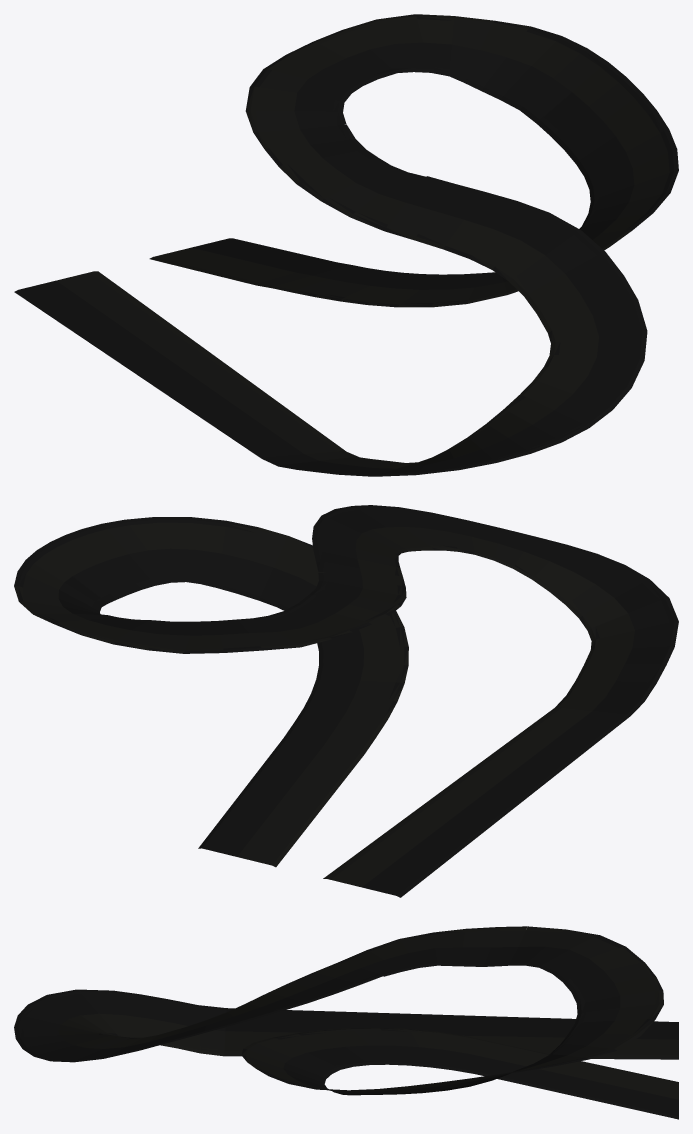
File: vai volta e sobe.gltf
3 views of the same model, one above another, from view 1: azimuth 30°, elevation 25°; view 2: azimuth 150°, elevation 25°; view 3: azimuth 270°, elevation 25° (orthographic). The views are drawn at different scales.
Parts seen in each view (by area): view 1: regular_3.002; view 2: regular_3.002; view 3: regular_3.002.
Boxes of the visible parts, bbox=[...] form: regular_3.002: bbox=[14, 14, 678, 476]; regular_3.002: bbox=[14, 505, 678, 897]; regular_3.002: bbox=[14, 926, 678, 1119].
Bounding box in the file's own units: 236 × 87.25 × 300.
Materials: 1 (1 with a texture image).
